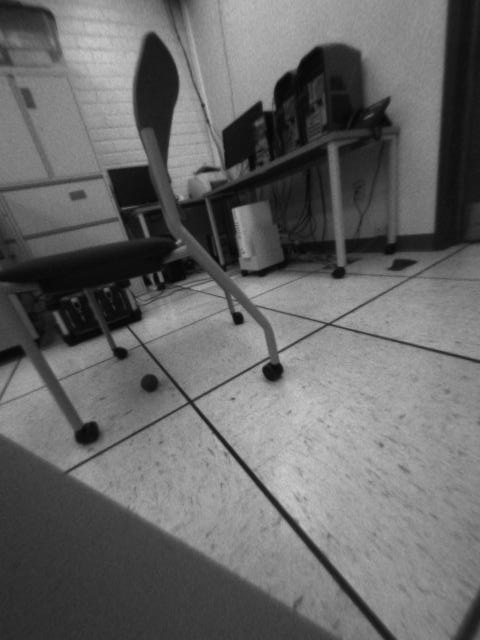dogtoy: (135, 369, 166, 396)
